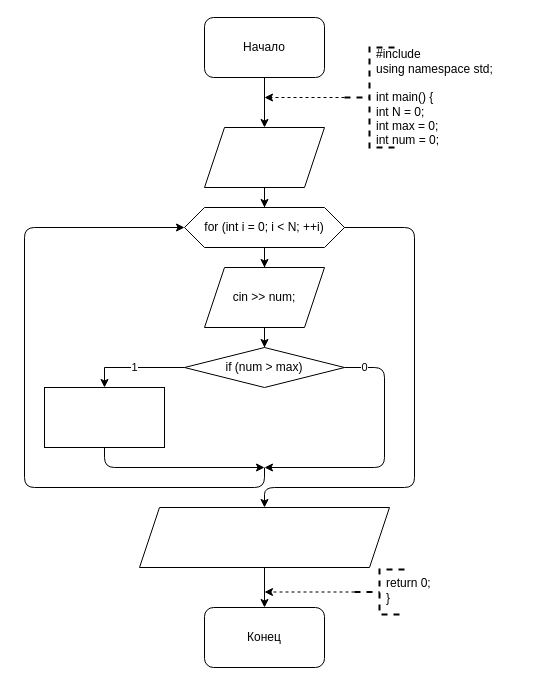
This 542x685 diagram has some shape labels left out. Here are the shapes that lost their labels. From the top down, the centre of each, then its label:
(x=264, y=157): cin >> N;
(x=104, y=417): max = num;
(x=264, y=537): cout << "Max element: " << max << endl;
